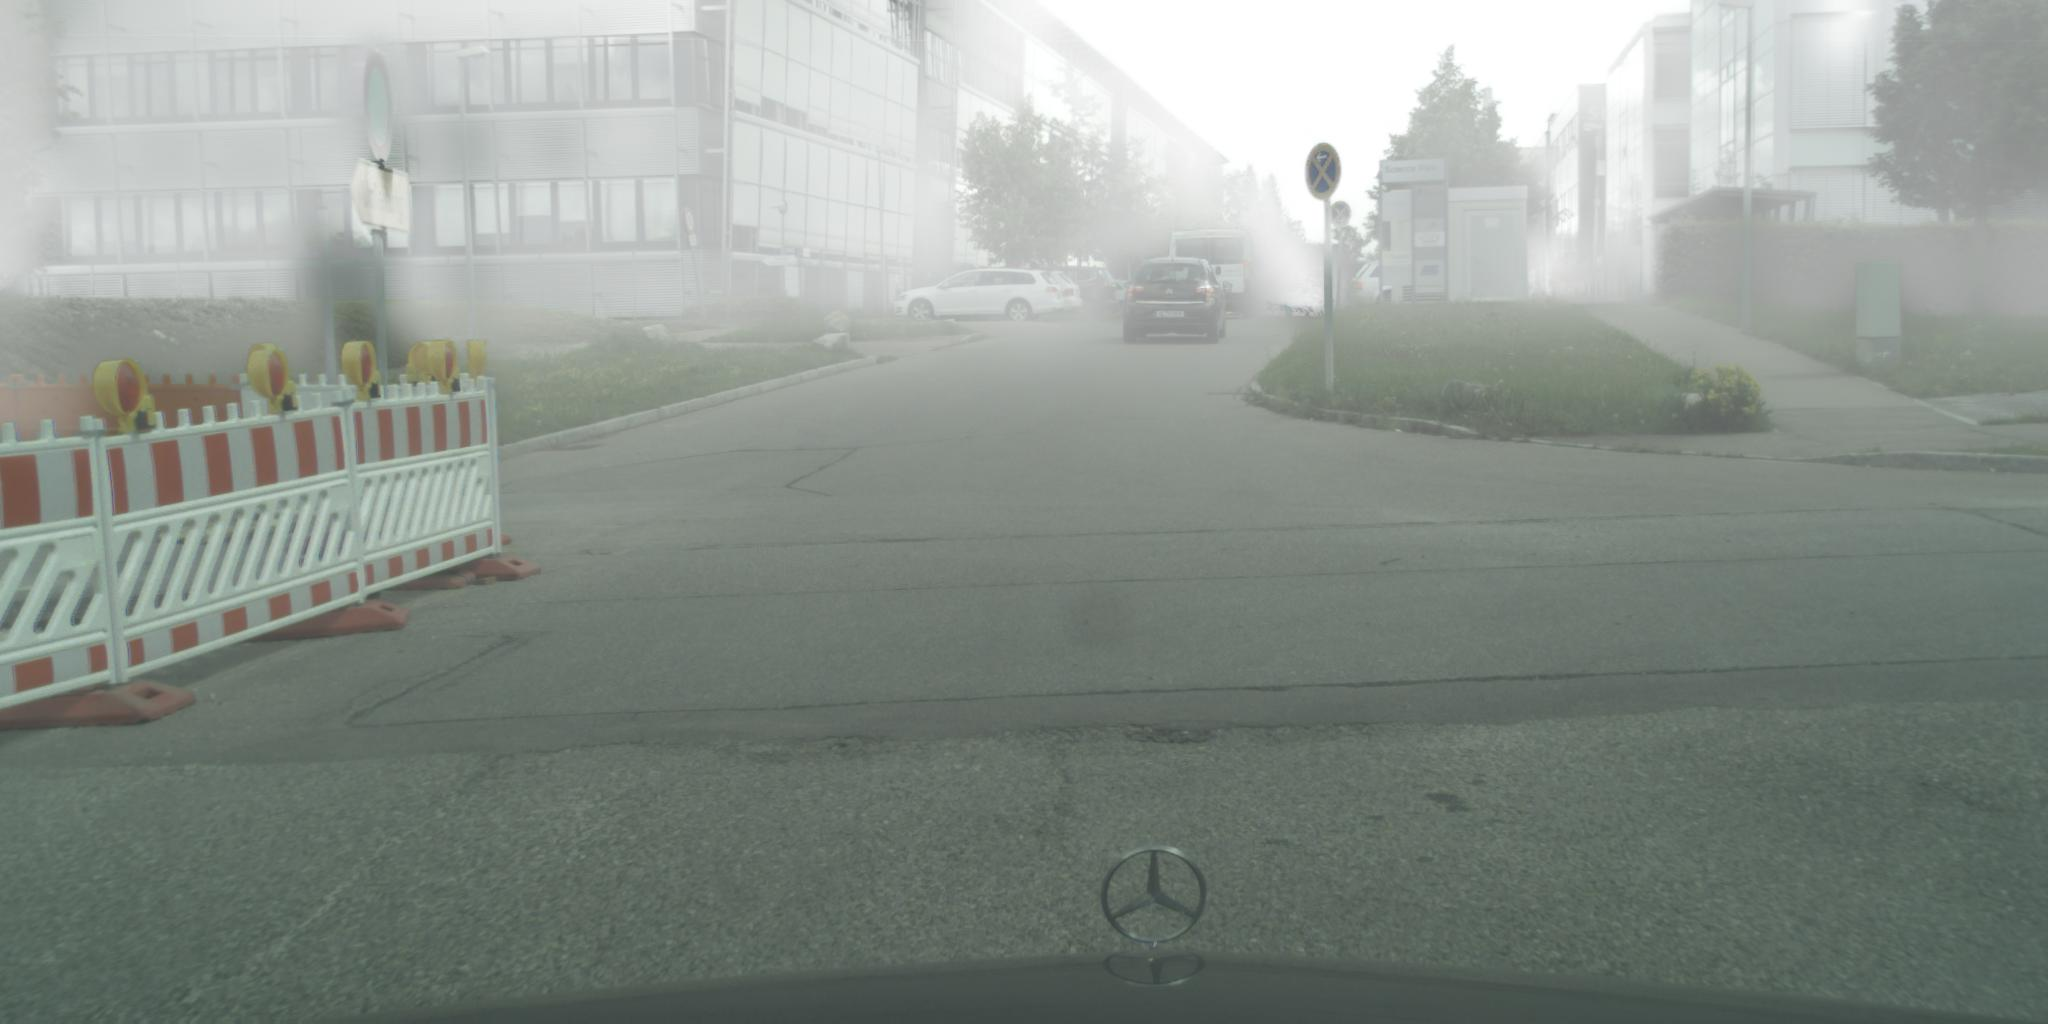car: (893, 269, 1064, 324), (1123, 259, 1228, 347), (1166, 231, 1256, 320), (1037, 266, 1119, 321), (1347, 261, 1399, 307), (1034, 270, 1085, 312), (1105, 280, 1139, 313)
